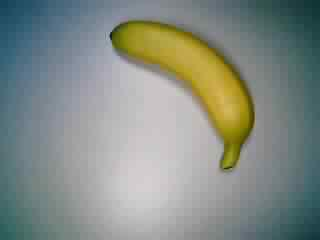banana: (107, 16, 260, 175)
